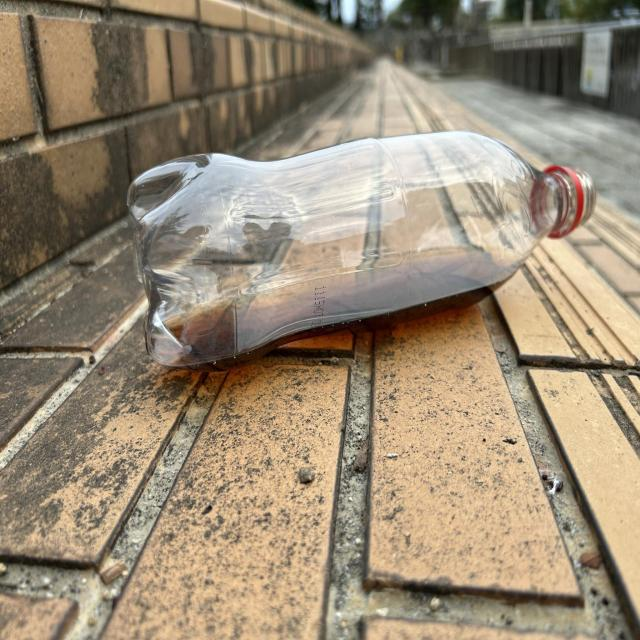low: (128, 132, 596, 368)
